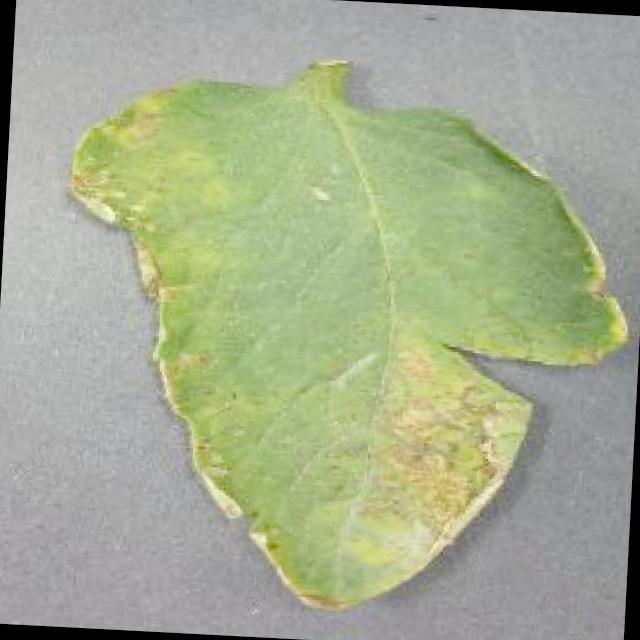Tomato bacterial spot leaf: (43, 68, 640, 637)
